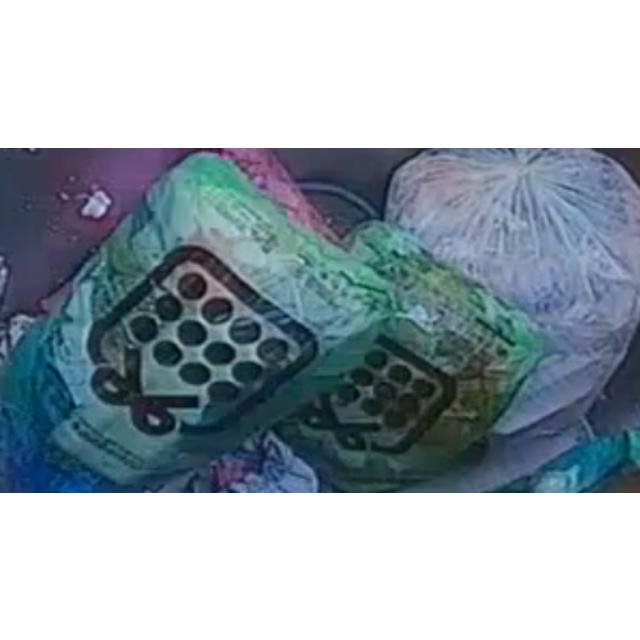general_trashbag: (0, 153, 391, 489), (275, 222, 540, 490)
other_trashbag: (386, 148, 640, 433)
